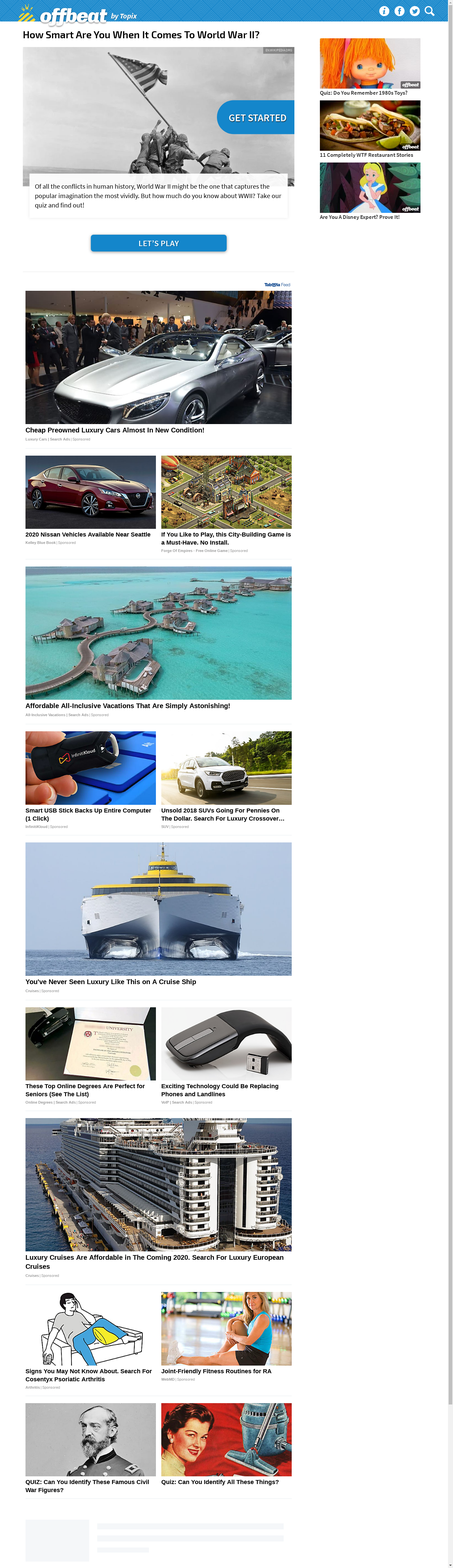fake_button: (216, 87, 304, 147), (85, 229, 233, 261)
